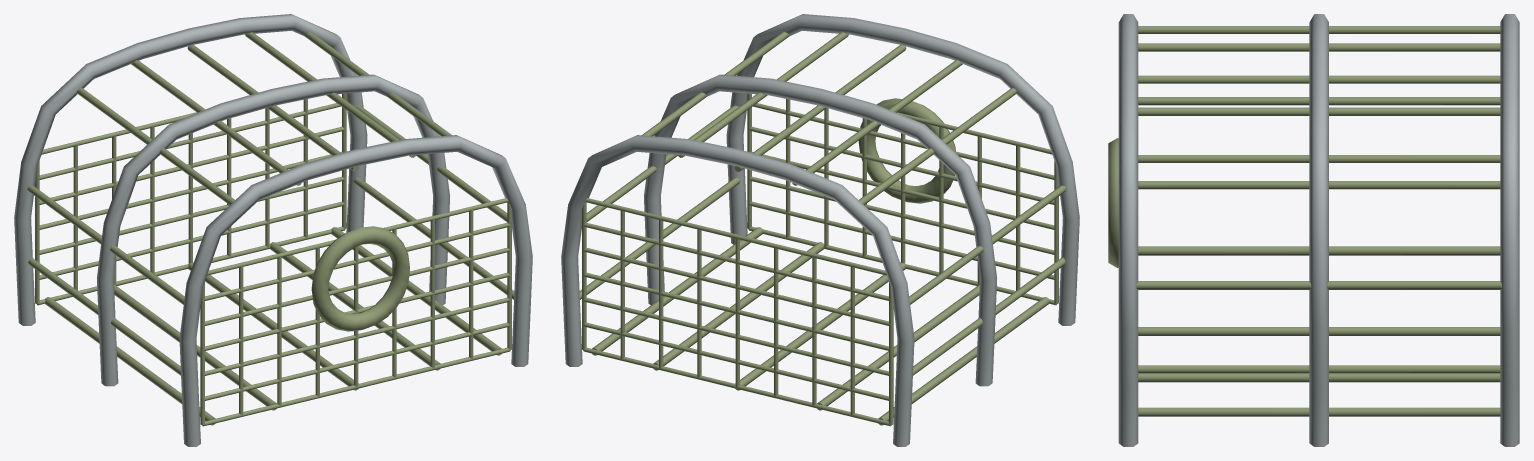
Rendered from flooded-and-coastal-survival-crab-pot-0fc5ddad__20076.glb.
3 renders of one model, left to right at view 1: azimuth 30°, elevation 25°; view 2: azimuth 150°, elevation 25°; view 3: azimuth 270°, elevation 25°, orthographic. The views are drawn at different scales.
Parts seen in each view (by area): view 1: crab-pot; view 2: crab-pot; view 3: crab-pot.
Part boxes in pixels (x1,y1,x2,y2): crab-pot: [14, 14, 532, 446]; crab-pot: [561, 14, 1079, 446]; crab-pot: [1108, 14, 1519, 446].
Bounding box in the file's own units: 0.8534 × 0.5906 × 0.7553.
